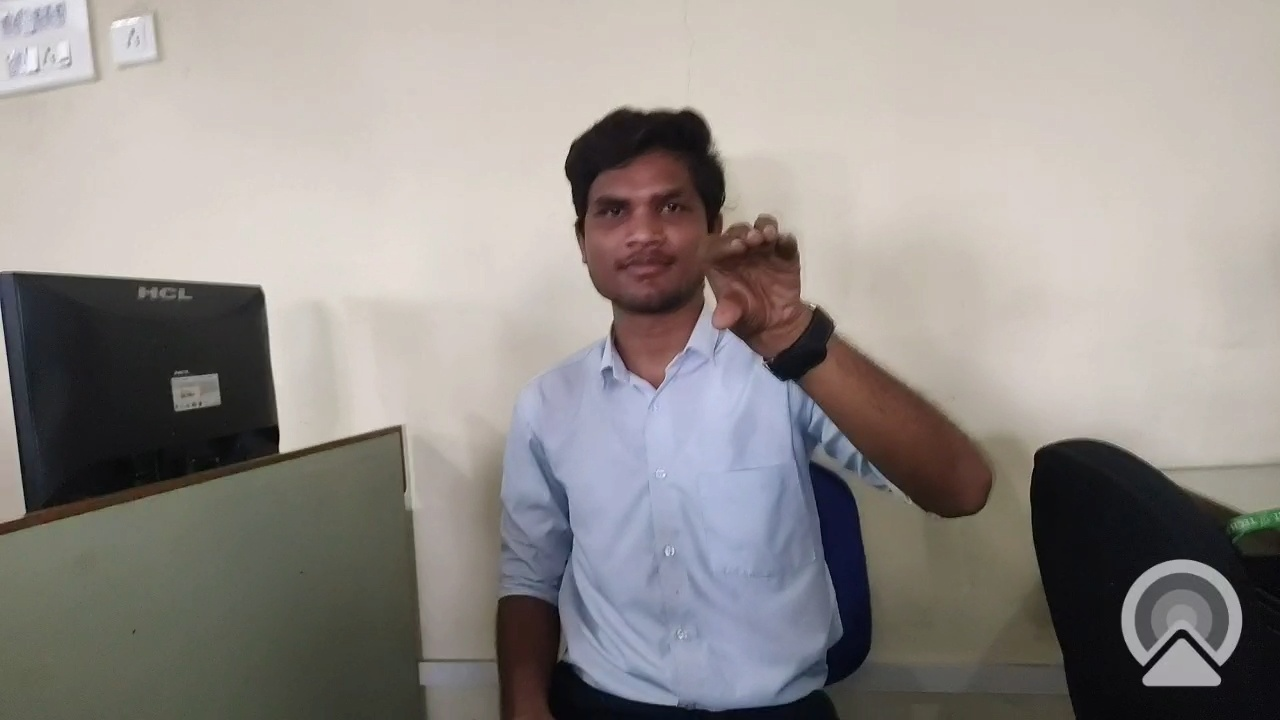No: (696, 209, 824, 358)
